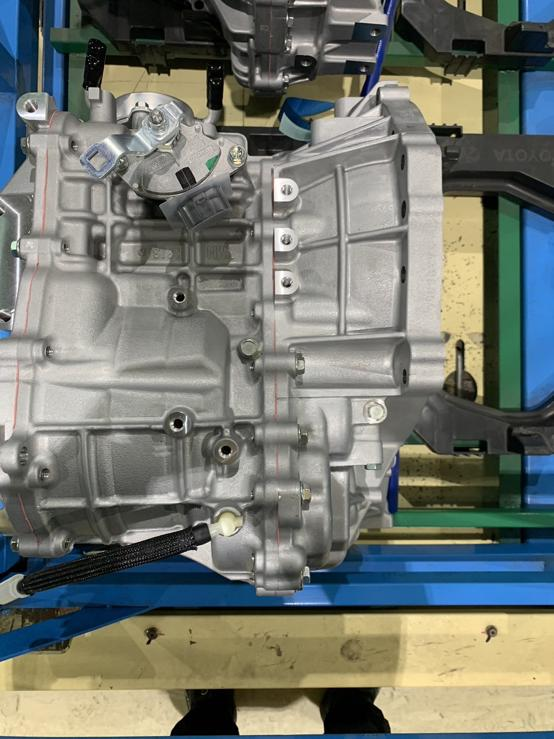gearbox_type1: (1, 83, 446, 594)
gearbox_type1_FP1: (269, 175, 302, 216)
gearbox_type1_FP2: (272, 223, 299, 263)
gearbox_type1_FP3: (15, 88, 52, 122)
